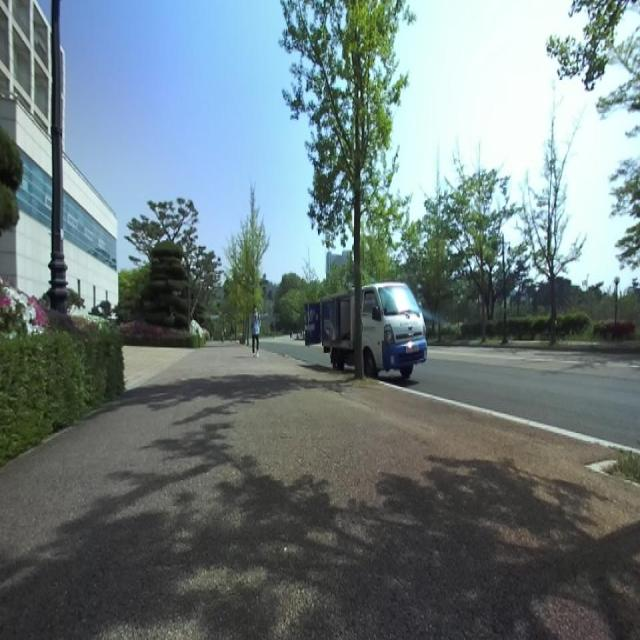sidewalk: (0, 343, 640, 639), (123, 346, 192, 389)
